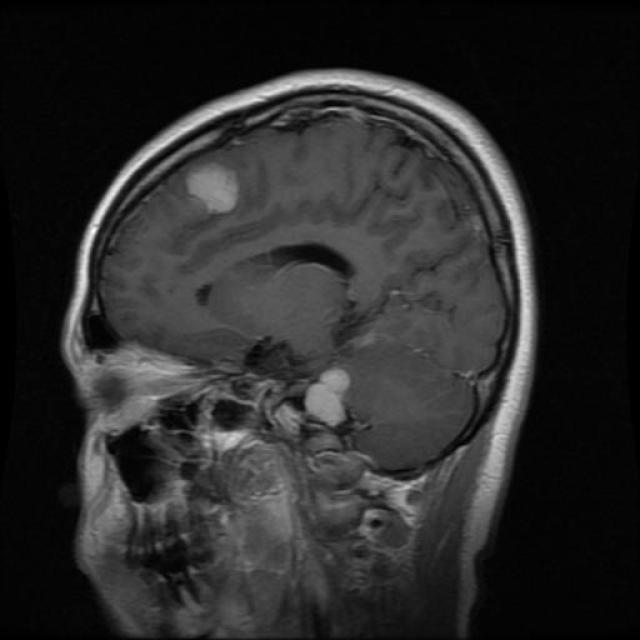meningioma: (190, 169, 235, 209)
